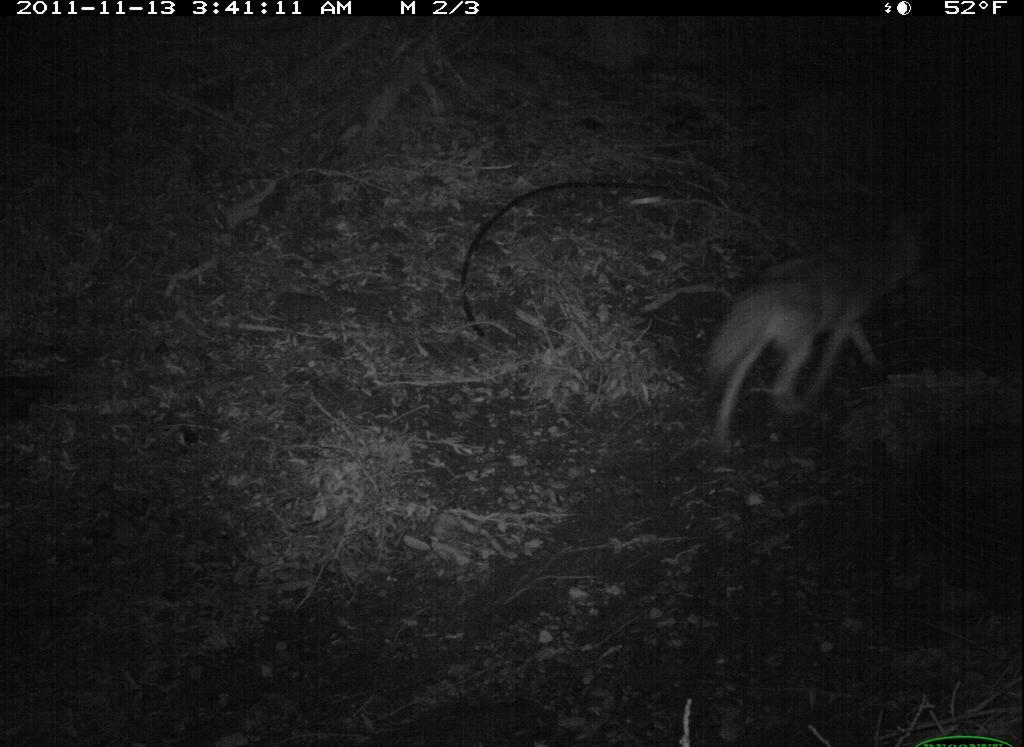coyote: (696, 257, 917, 436)
